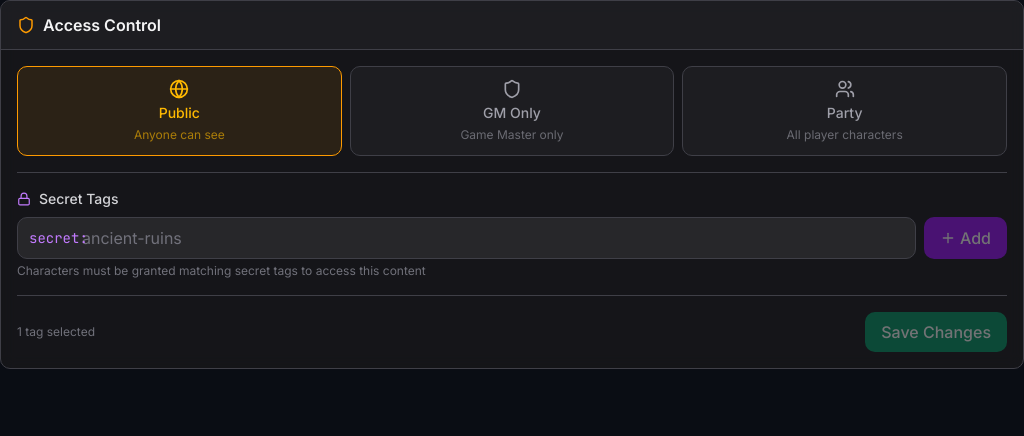
Test: ScopeEditor › adds secret tag on Enter key
In the field with placeholder "ancient-ruins": (466, 238) x1=17 y1=217 x2=916 y2=259, type "hidden-base"
Then press Enter
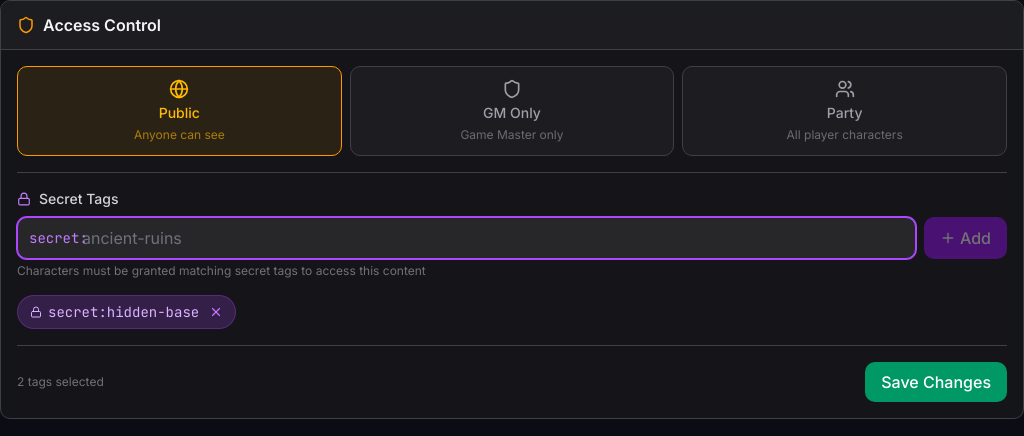
Now the text "secret:hidden-base" is shown, box x1=17 y1=295 x2=236 y2=329
